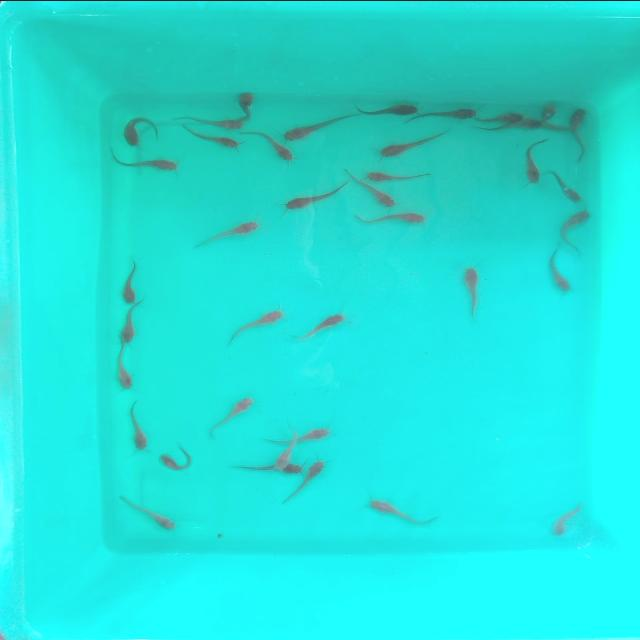lele: (224, 306, 281, 351), (114, 490, 174, 530), (205, 394, 258, 438), (340, 166, 400, 203), (284, 110, 354, 140), (238, 124, 294, 160), (295, 308, 345, 344), (376, 130, 444, 156), (192, 219, 258, 243), (368, 498, 433, 520), (282, 183, 336, 209), (548, 498, 584, 536), (556, 203, 592, 241), (518, 135, 544, 187), (417, 102, 481, 122), (355, 209, 426, 227), (363, 167, 438, 183), (128, 400, 150, 452), (568, 106, 590, 158), (119, 298, 142, 346), (550, 167, 582, 201), (548, 245, 572, 289), (112, 156, 178, 172), (120, 255, 142, 302), (122, 116, 156, 146), (306, 454, 324, 508), (114, 336, 132, 390), (184, 130, 238, 148), (158, 446, 195, 472), (351, 102, 418, 116), (468, 263, 483, 319), (177, 116, 243, 128), (230, 462, 300, 472), (270, 440, 300, 463), (286, 424, 332, 439), (488, 119, 540, 131), (234, 90, 254, 120), (540, 104, 562, 130), (478, 112, 522, 122)
